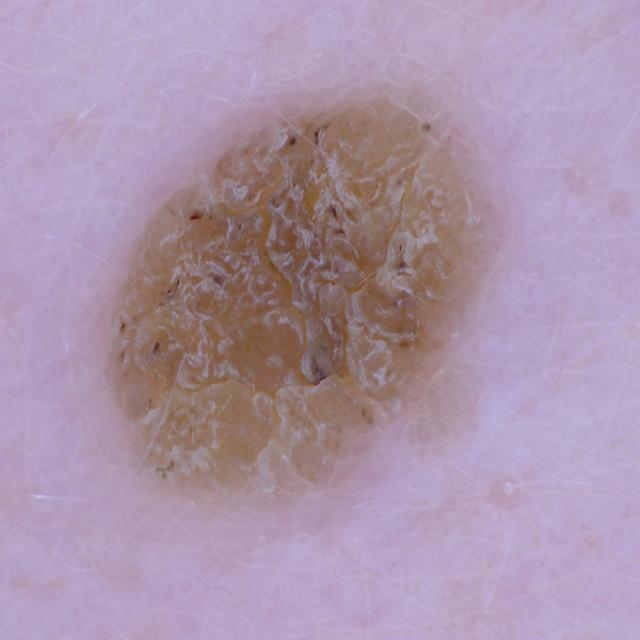Skin-Cancer Pigmented benign keratosis: (2, 53, 581, 557)
